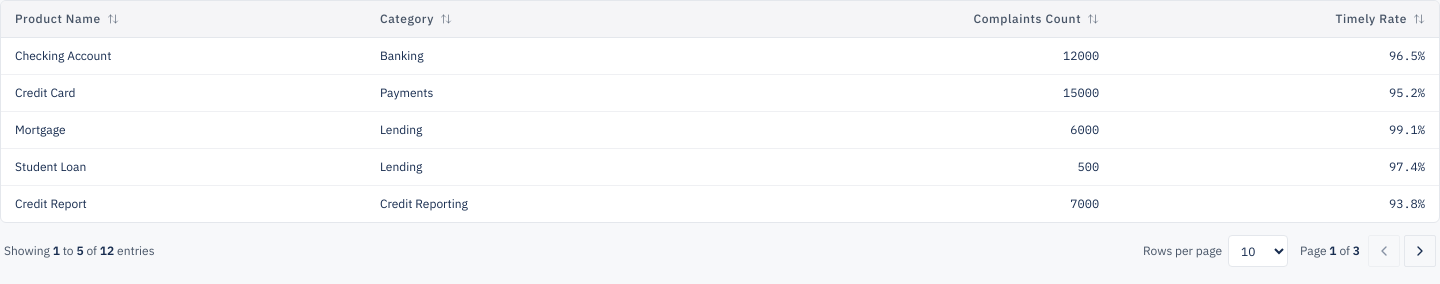
it: Day 4: DataTable Component › handles sorting when a column header button is clicked
This screenshot has width=1440, height=284.
Click once for ascending sort
Click the button with aria-label "Sort by Product Name": (67,19) [15, 11, 119, 27]
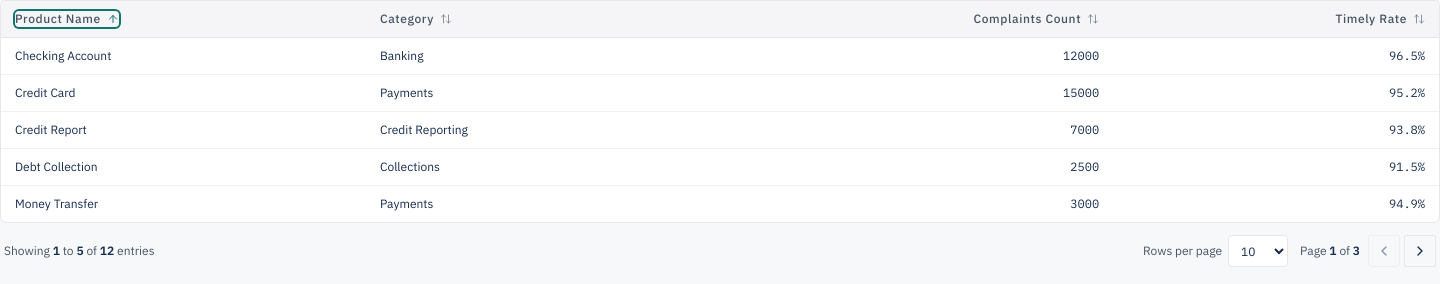
Expected: the text "Checking Account" is shown, [1, 38, 366, 74]
Expected: the column heading named "Sort by Product Name" has attribute aria-sort="ascending", [1, 1, 366, 38]
Click again for descending sort
Click the button with aria-label "Sort by Product Name": (67,19) [15, 11, 119, 27]
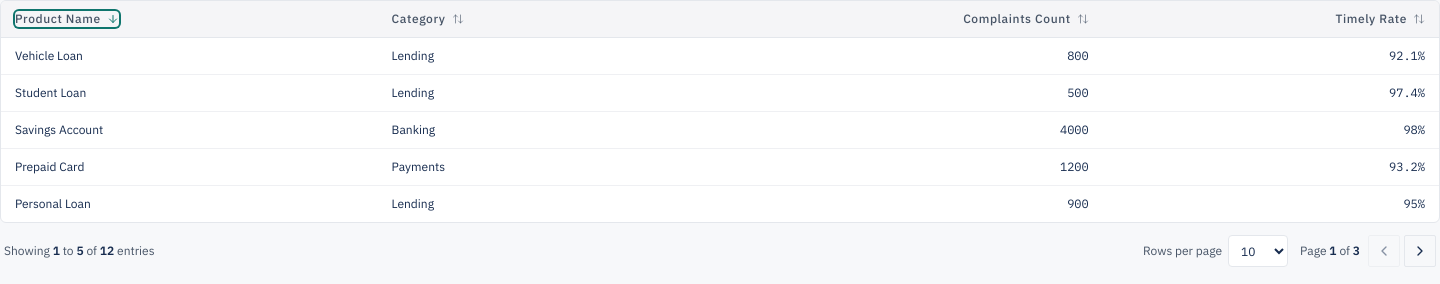
Expected: the text "Vehicle Loan" is shown, [1, 38, 378, 74]
